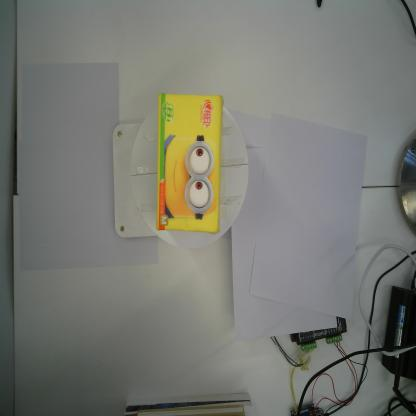Tissue: (155, 92, 225, 235)
